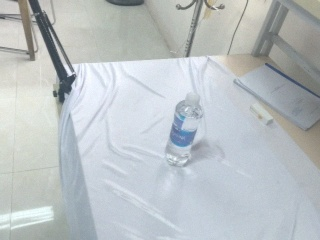bottle: (164, 92, 203, 167)
